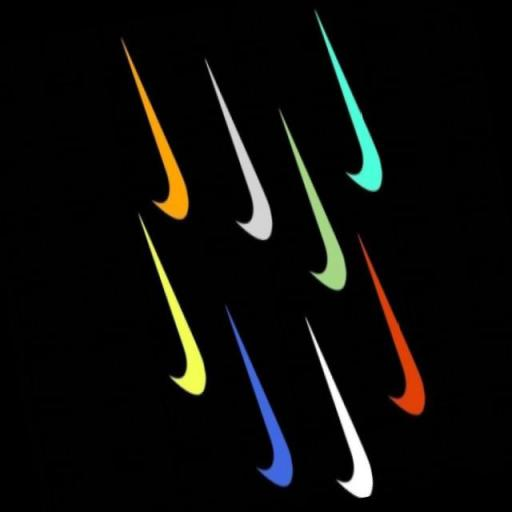Nike: (196, 31, 291, 256)
